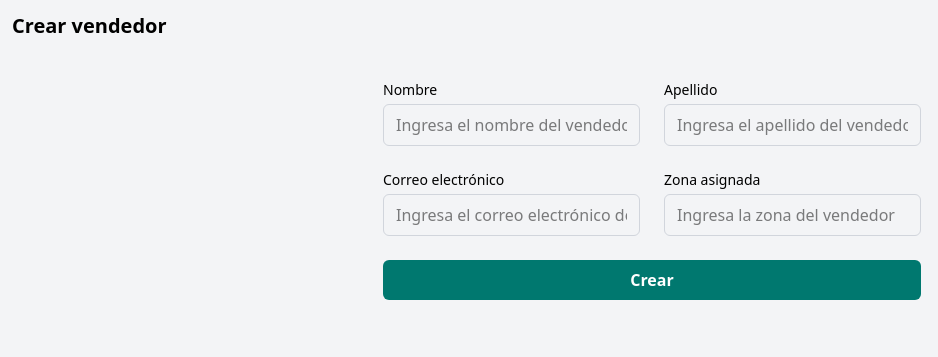
Scenario: CreateSeller Page › cuando hay errores de validación › debería mostrar error si el correo es inválido
Type "correo@malo" into the field with placeholder "Ingresa el correo electrónico del vendedor" at (512, 215), box [383,194,640,236]
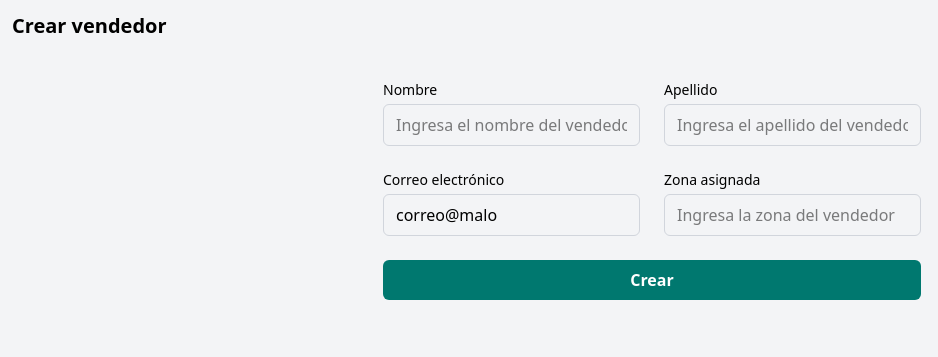
Click the button "Crear" at (652, 280), box [383,260,921,300]
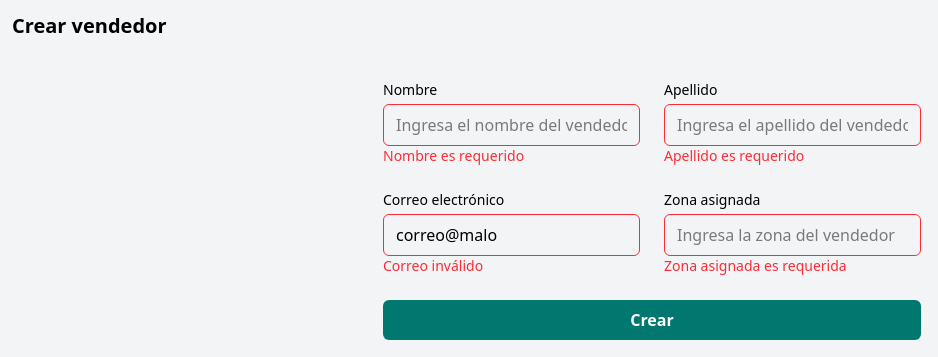
Check: the text "Correo inválido" is shown, box [383,256,483,275]
